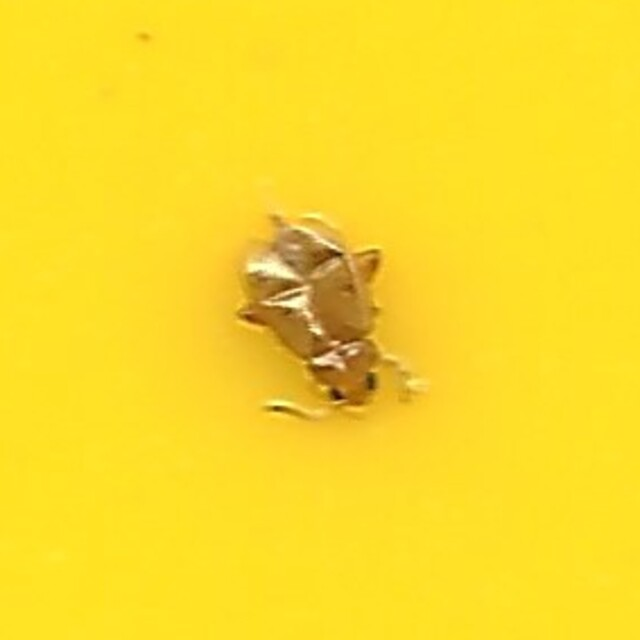Coleoptera: (226, 209, 414, 431)
